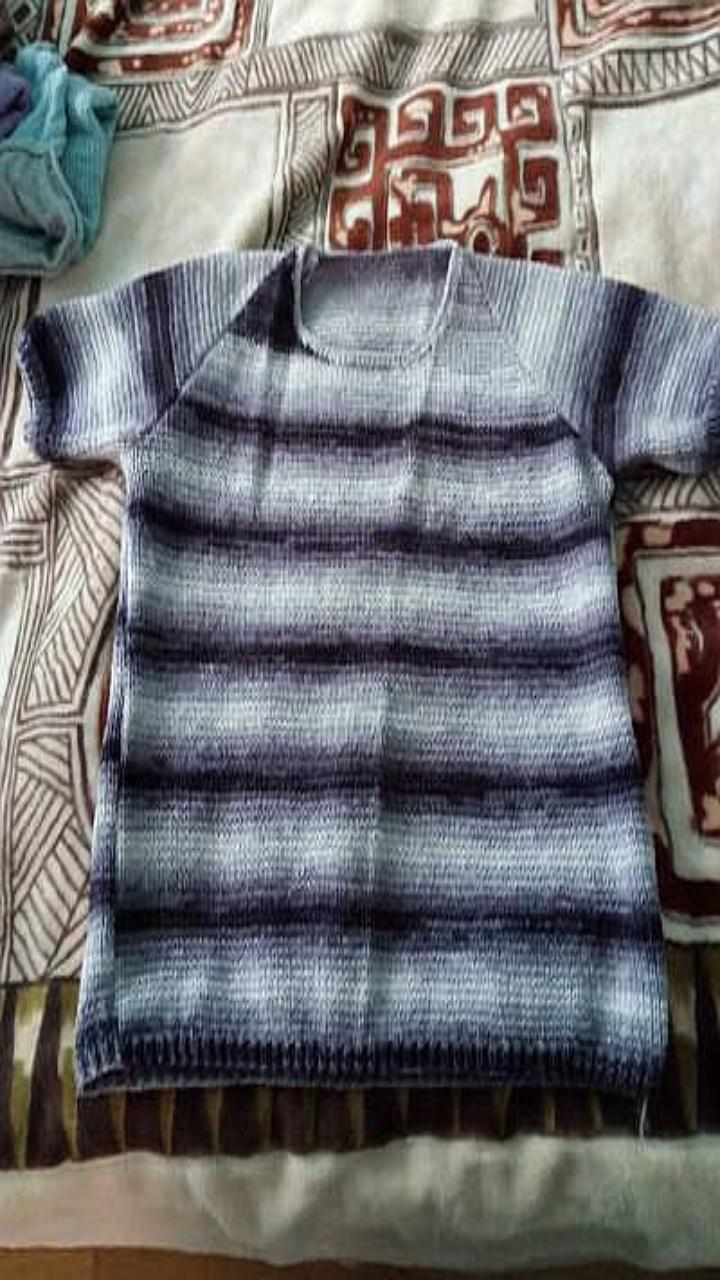T-Shirt: (20, 242, 719, 1093)
